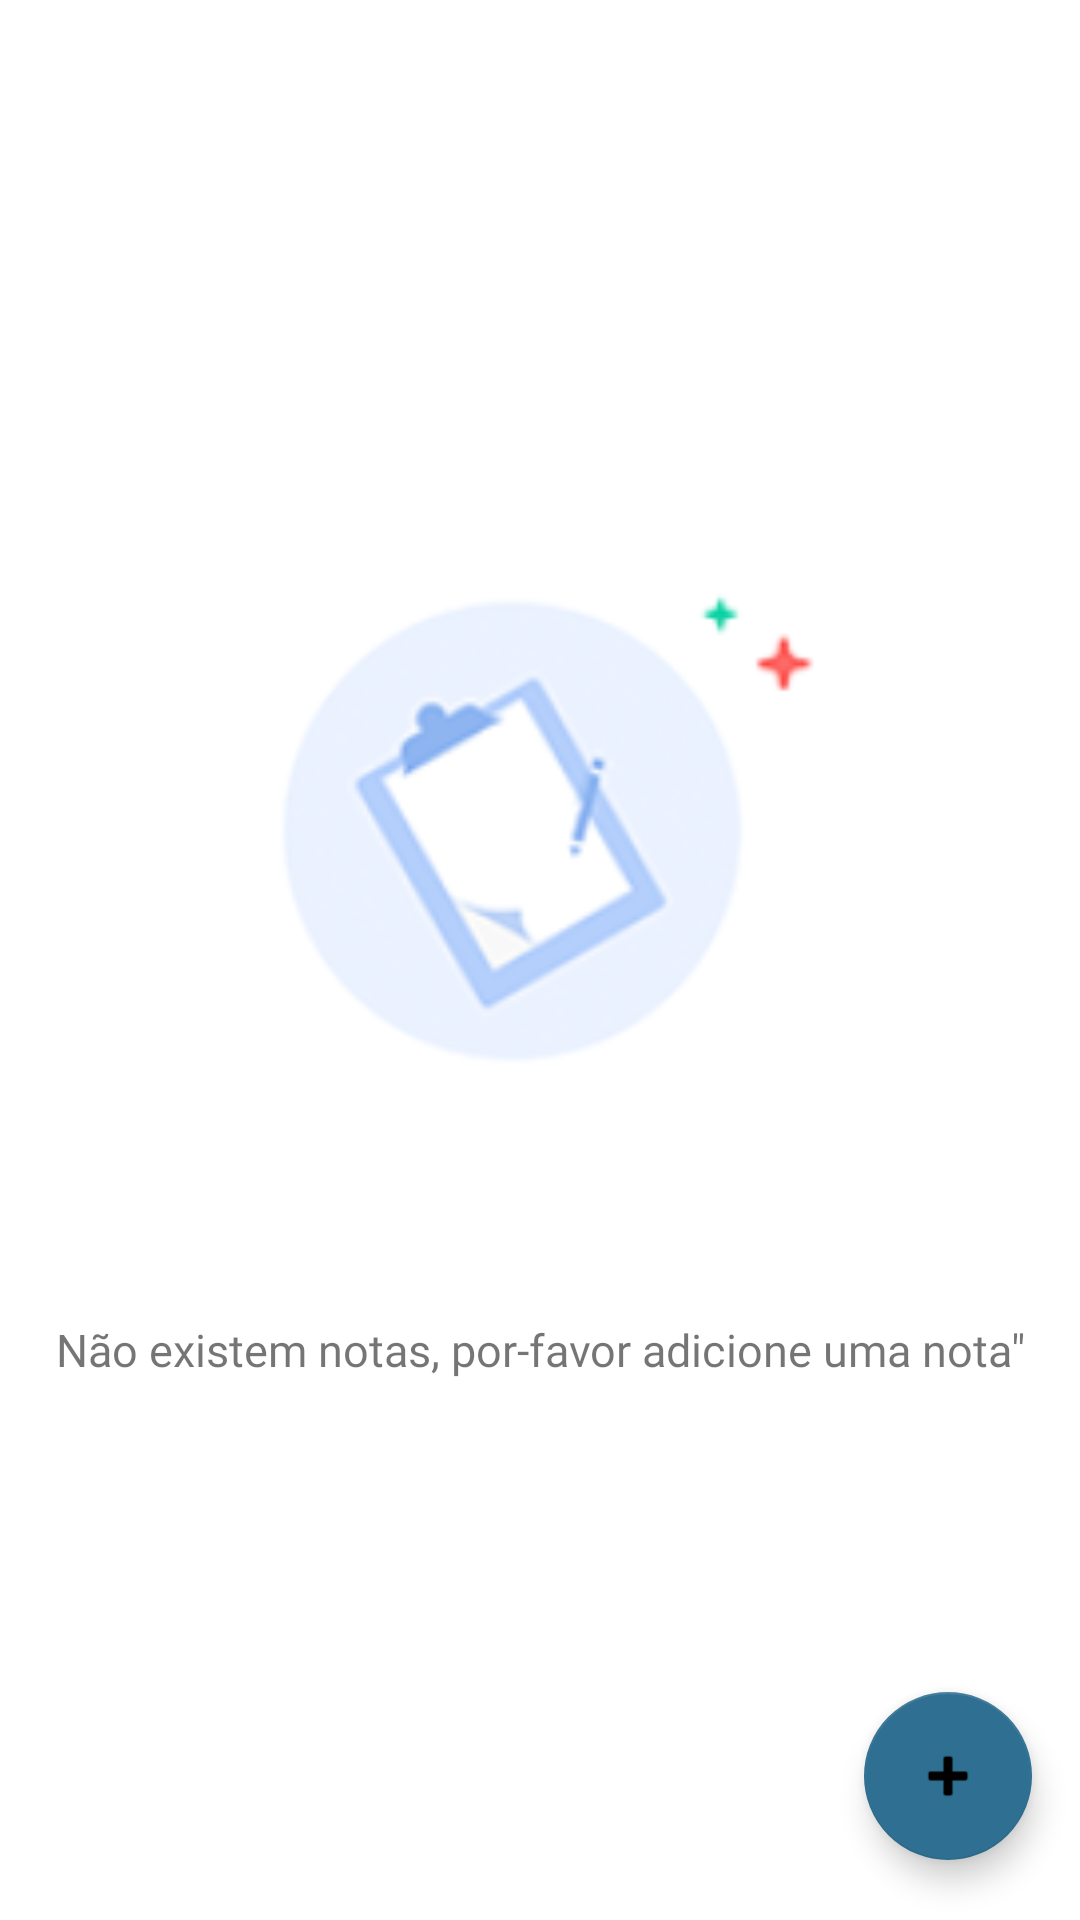

Icon bounding boxes for this 1080×1920 phone screenshot, format [x1=x1, y1=y1, x2=x2, y2=y2]:
add: [x1=864, y1=1692, x2=1032, y2=1860]
